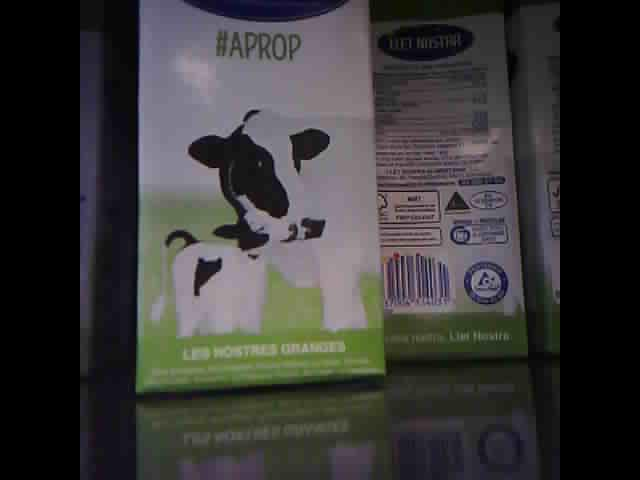leche: (132, 2, 376, 397), (374, 7, 518, 364), (506, 11, 560, 358)
